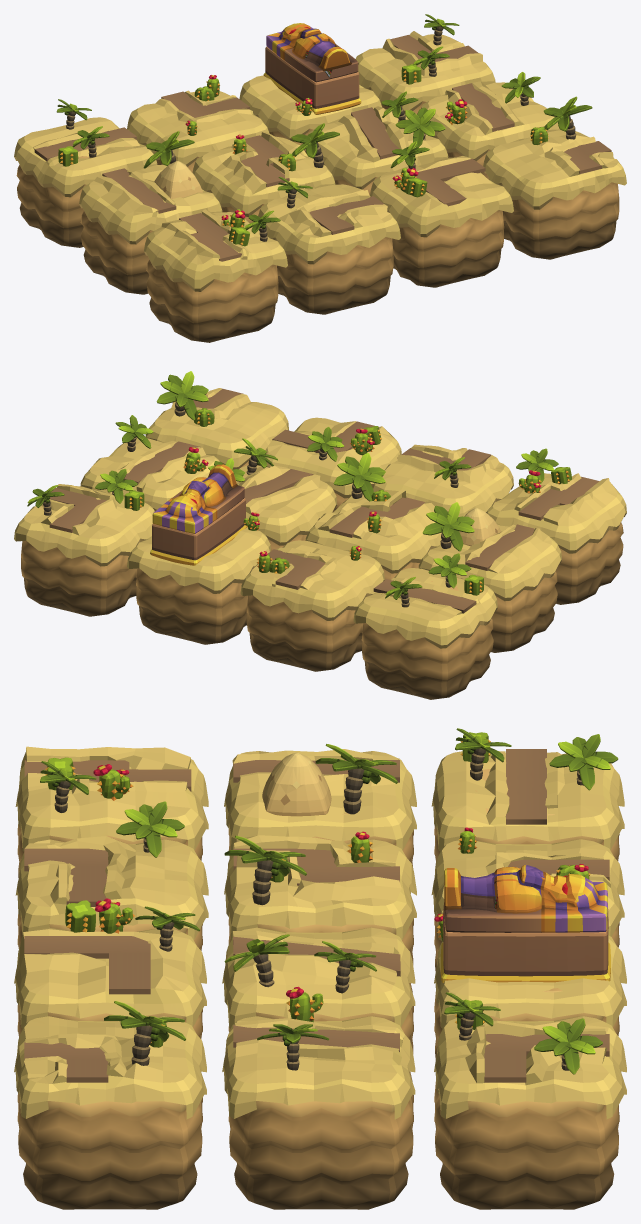
Rendered from Desert_Cubes.fbx.
3 views of the same model, one above another, from view 1: azimuth 30°, elevation 25°; view 2: azimuth 150°, elevation 25°; view 3: azimuth 270°, elevation 25° (orthographic). The views are drawn at different scales.
Parts seen in each view (by area): view 1: Desert_Cube_09 .001, Desert_Cube_12.001, Desert_Cube_10.001, Desert_Cube_11.001, Desert_Cube_05 .001, Desert_Cube_01.001, Desert_Cube_03 .001, Desert_Cube_06 .001, Desert_Cube_04 .001, Desert_Cube_07 .001, Desert_Cube_08 .001, Desert_Cube_02 .001; view 2: Desert_Cube_03 .001, Desert_Cube_01.001, Desert_Cube_04 .001, Desert_Cube_02 .001, Desert_Cube_09 .001, Desert_Cube_05 .001, Desert_Cube_06 .001, Desert_Cube_12.001, Desert_Cube_10.001, Desert_Cube_07 .001, Desert_Cube_11.001, Desert_Cube_08 .001; view 3: Desert_Cube_08 .001, Desert_Cube_04 .001, Desert_Cube_12.001, Desert_Cube_03 .001, Desert_Cube_11.001, Desert_Cube_01.001, Desert_Cube_06 .001, Desert_Cube_05 .001, Desert_Cube_10.001, Desert_Cube_07 .001, Desert_Cube_09 .001, Desert_Cube_02 .001.
Part boxes in pixels (bbox=[...]): Desert_Cube_09 .001: bbox=[144, 209, 287, 342]; Desert_Cube_12.001: bbox=[483, 96, 626, 259]; Desert_Cube_10.001: bbox=[258, 177, 400, 314]; Desert_Cube_11.001: bbox=[370, 141, 513, 287]; Desert_Cube_05 .001: bbox=[79, 131, 222, 294]; Desert_Cube_01.001: bbox=[14, 99, 157, 247]; Desert_Cube_03 .001: bbox=[239, 23, 381, 153]; Desert_Cube_06 .001: bbox=[192, 123, 339, 223]; Desert_Cube_04 .001: bbox=[355, 14, 495, 115]; Desert_Cube_07 .001: bbox=[305, 91, 448, 195]; Desert_Cube_08 .001: bbox=[421, 72, 560, 178]; Desert_Cube_02 .001: bbox=[127, 75, 269, 172]; Desert_Cube_03 .001: bbox=[127, 464, 270, 644]; Desert_Cube_01.001: bbox=[353, 553, 497, 699]; Desert_Cube_04 .001: bbox=[14, 468, 154, 616]; Desert_Cube_02 .001: bbox=[240, 540, 384, 671]; Desert_Cube_09 .001: bbox=[486, 448, 626, 604]; Desert_Cube_05 .001: bbox=[418, 502, 561, 652]; Desert_Cube_06 .001: bbox=[305, 453, 441, 579]; Desert_Cube_12.001: bbox=[145, 371, 288, 469]; Desert_Cube_10.001: bbox=[372, 444, 513, 516]; Desert_Cube_07 .001: bbox=[207, 438, 337, 550]; Desert_Cube_11.001: bbox=[258, 417, 401, 512]; Desert_Cube_08 .001: bbox=[80, 415, 219, 511]; Desert_Cube_08 .001: bbox=[222, 986, 415, 1209]; Desert_Cube_04 .001: bbox=[434, 992, 626, 1209]; Desert_Cube_12.001: bbox=[14, 1001, 206, 1209]; Desert_Cube_03 .001: bbox=[434, 865, 626, 1059]; Desert_Cube_11.001: bbox=[14, 898, 206, 1038]; Desert_Cube_01.001: bbox=[431, 728, 624, 870]; Desert_Cube_06 .001: bbox=[224, 831, 416, 964]; Desert_Cube_05 .001: bbox=[224, 744, 416, 868]; Desert_Cube_10.001: bbox=[15, 801, 208, 950]; Desert_Cube_07 .001: bbox=[222, 927, 415, 1053]; Desert_Cube_09 .001: bbox=[15, 746, 208, 877]; Desert_Cube_02 .001: bbox=[431, 827, 624, 971].
Bounding box in the file's own units: 393177 × 121288 × 293486.
